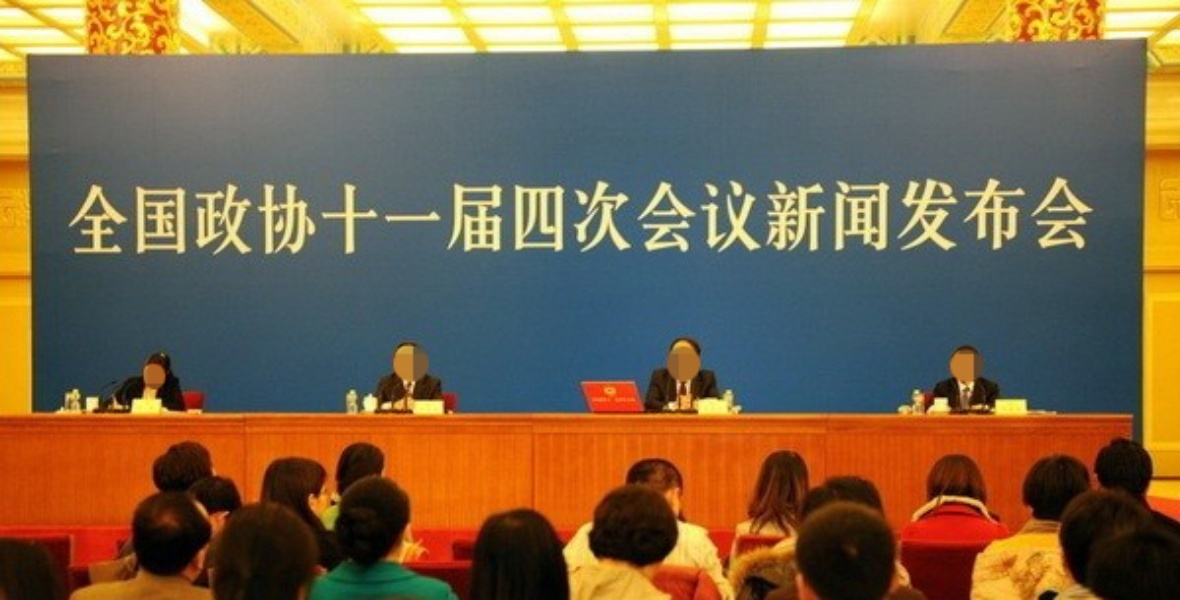text: (65, 176, 80, 258), (81, 176, 96, 258), (97, 176, 112, 258), (113, 176, 128, 258), (129, 176, 144, 258), (145, 176, 160, 258), (161, 176, 176, 258), (177, 176, 192, 258), (193, 176, 208, 258), (209, 176, 224, 258), (225, 176, 240, 258), (241, 176, 256, 258), (257, 176, 272, 258), (273, 176, 288, 258), (289, 176, 304, 258), (305, 176, 320, 258), (321, 176, 336, 258), (337, 176, 352, 258), (353, 176, 368, 258), (369, 176, 384, 258), (385, 176, 400, 258), (401, 176, 416, 258), (417, 176, 432, 258), (433, 176, 448, 258), (449, 176, 464, 258), (465, 176, 480, 258), (481, 176, 496, 258), (497, 176, 512, 258), (513, 176, 528, 258), (529, 176, 544, 258), (545, 176, 560, 258), (561, 176, 576, 258), (577, 176, 592, 258), (593, 176, 608, 258), (609, 176, 624, 258), (625, 176, 640, 258), (641, 176, 656, 258), (657, 176, 672, 258), (673, 176, 688, 258), (689, 176, 704, 258), (705, 176, 720, 258), (721, 176, 736, 258), (737, 176, 752, 258), (753, 176, 768, 258), (769, 176, 784, 258), (785, 176, 800, 258), (801, 176, 816, 258), (817, 176, 832, 258), (833, 176, 848, 258), (849, 176, 864, 258), (865, 176, 880, 258), (881, 176, 896, 258), (897, 176, 912, 258), (913, 176, 928, 258), (929, 176, 944, 258), (945, 176, 960, 258), (961, 176, 976, 258), (977, 176, 992, 258), (993, 176, 1008, 258), (1009, 176, 1024, 258), (1025, 176, 1040, 258), (1041, 176, 1056, 258), (1057, 176, 1072, 258), (1073, 176, 1088, 258), (1089, 176, 1090, 258), (593, 398, 608, 402), (609, 398, 624, 402), (625, 398, 636, 402)
